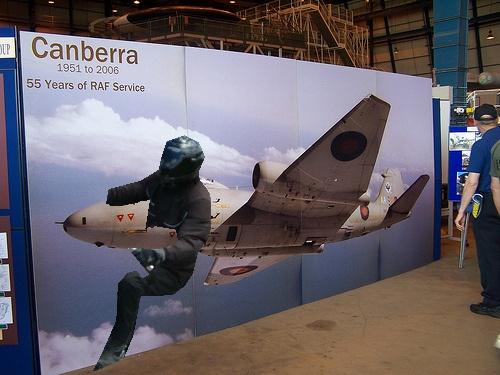tampered: (94, 136, 211, 371)
